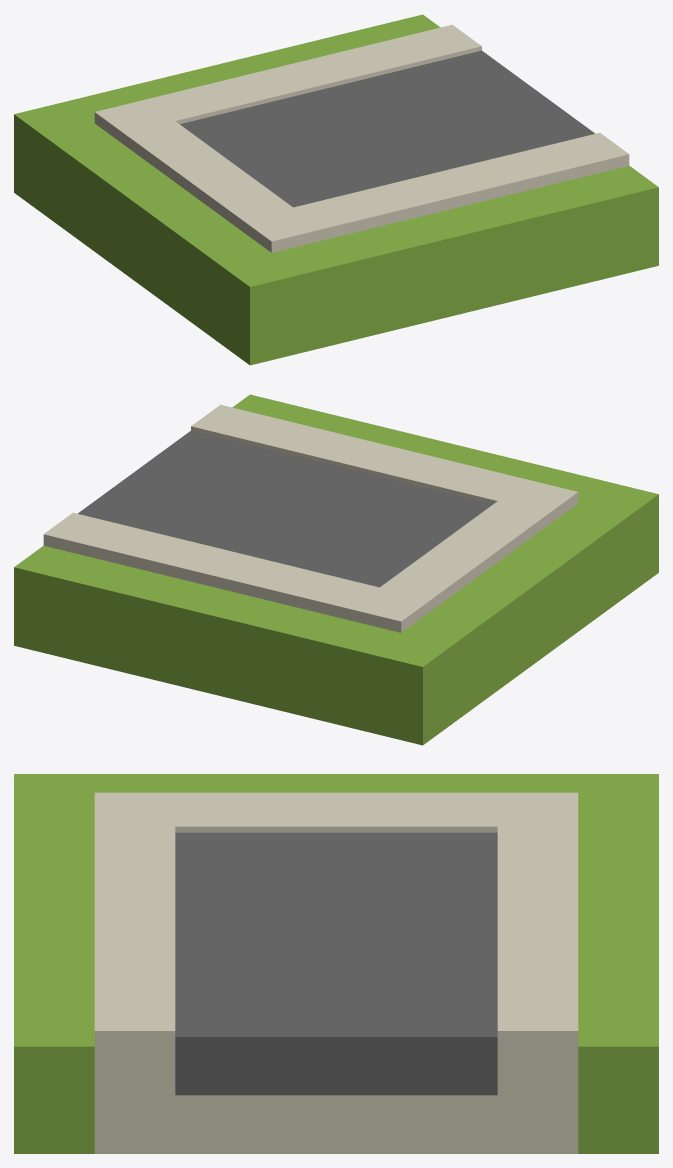
Rendered from road-deadend-sidewalk-grass.obj.
The picture shows the model from 3 angles, top to bottom: view 1: azimuth 30°, elevation 25°; view 2: azimuth 150°, elevation 25°; view 3: azimuth 270°, elevation 25°; orthographic projection. The views are drawn at different scales.
Visible parts, largest first — view 1: Mesh1_Group1_Model.037; view 2: Mesh1_Group1_Model.037; view 3: Mesh1_Group1_Model.037.
Part boxes in pixels (x1,y1,x2,y2): Mesh1_Group1_Model.037: [14, 14, 658, 365]; Mesh1_Group1_Model.037: [14, 394, 658, 745]; Mesh1_Group1_Model.037: [14, 774, 658, 1153].
Bounding box in the file's own units: 3 × 0.63 × 3.
